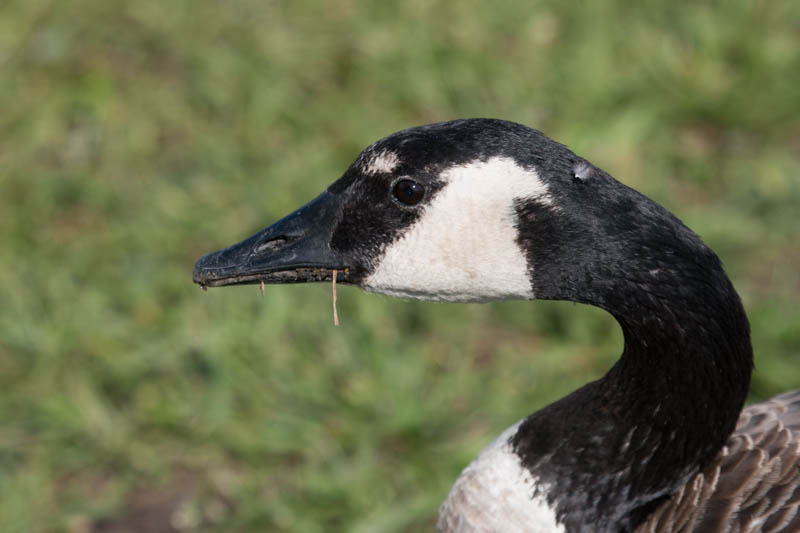goose-head: (193, 118, 586, 305)
